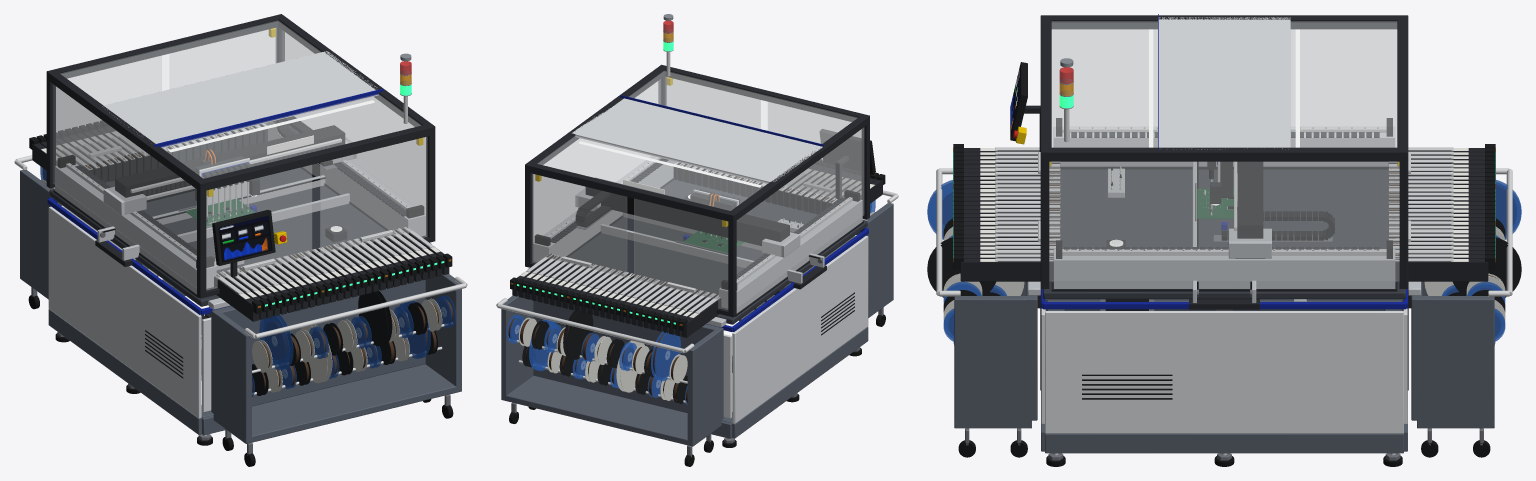
The model's file is mounter.glb.
3 renders of one model, left to right at view 1: azimuth 30°, elevation 25°; view 2: azimuth 150°, elevation 25°; view 3: azimuth 270°, elevation 25°, orthographic. The views are drawn at different scales.
Parts seen in each view (by area): view 1: MNT.hood.panes, MNT.hood.frame, MNT.feeders_front.trolley, MNT.cabinet.side_left, MNT.feeders_front.reels, MNT.feeders_front.feeders, MNT.bed.casting, MNT.yaxis.beam_left, MNT.feeders_rear.feeders, MNT.gantry.beam, MNT.yaxis.beam_right, MNT.feeders_rear.trolley (+12 smaller); view 2: MNT.hood.panes, MNT.hood.frame, MNT.feeders_rear.trolley, MNT.cabinet.side_left, MNT.feeders_rear.reels, MNT.feeders_rear.feeders, MNT.bed.casting, MNT.yaxis.beam_left, MNT.gantry.beam, MNT.feeders_front.feeders, MNT.yaxis.beam_right, MNT.feeders_front.trolley (+10 smaller); view 3: MNT.hood.panes, MNT.cabinet.side_right, MNT.hood.frame, MNT.bed.casting, MNT.yaxis.beam_right, MNT.feeders_front.trolley, MNT.feeders_rear.trolley, MNT.feeders_rear.feeders, MNT.feeders_front.feeders, MNT.yaxis.beam_left, MNT.feeders_front.reels, MNT.feeders_rear.reels (+13 smaller).
Boxes of the visible parts, x1,y1,x2,y2 form: MNT.hood.panes: (53,20,427,290); MNT.hood.frame: (46,14,435,298); MNT.feeders_front.trolley: (208,274,467,466); MNT.cabinet.side_left: (47,199,201,434); MNT.feeders_front.reels: (252,290,455,397); MNT.feeders_front.feeders: (214,227,452,321); MNT.bed.casting: (49,167,431,306); MNT.yaxis.beam_left: (53,155,216,297); MNT.feeders_rear.feeders: (29,120,267,182); MNT.gantry.beam: (103,125,356,215); MNT.yaxis.beam_right: (265,120,425,236); MNT.feeders_rear.trolley: (14,155,158,309); MNT.hood.panes: (532,70,864,309); MNT.hood.frame: (525,64,869,317); MNT.feeders_rear.trolley: (496,295,726,466); MNT.cabinet.side_left: (732,229,868,438); MNT.feeders_rear.reels: (506,309,687,404); MNT.feeders_rear.feeders: (510,253,721,337); MNT.bed.casting: (528,179,867,324); MNT.yaxis.beam_left: (719,190,863,316); MNT.gantry.beam: (575,177,800,257); MNT.feeders_front.feeders: (673,159,885,214); MNT.yaxis.beam_right: (533,156,675,262); MNT.feeders_front.trolley: (856,190,898,326); MNT.hood.panes: (1049,21,1399,281); MNT.cabinet.side_right: (1043,302,1405,453); MNT.hood.frame: (1040,14,1408,288); MNT.bed.casting: (1043,169,1405,299); MNT.yaxis.beam_right: (1051,240,1397,291); MNT.feeders_front.trolley: (936,168,1040,457); MNT.feeders_rear.trolley: (1408,168,1512,457); MNT.feeders_rear.feeders: (1388,144,1495,281); MNT.feeders_front.feeders: (953,144,1060,281); MNT.yaxis.beam_left: (1053,118,1395,169); MNT.feeders_front.reels: (927,180,1024,345); MNT.feeders_rear.reels: (1424,180,1521,345).
Bounding box in the file's own units: 1.67 × 2.03 × 2.75.
Materials: 31 (1 with a texture image).
